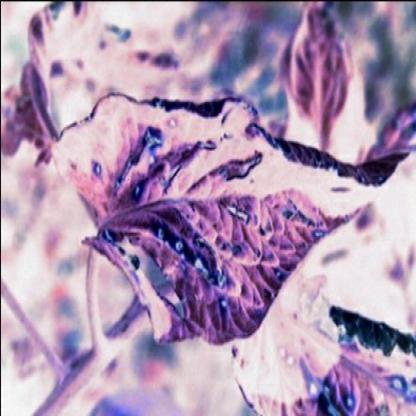tomato septoria leaf spot: (42, 87, 402, 341)
